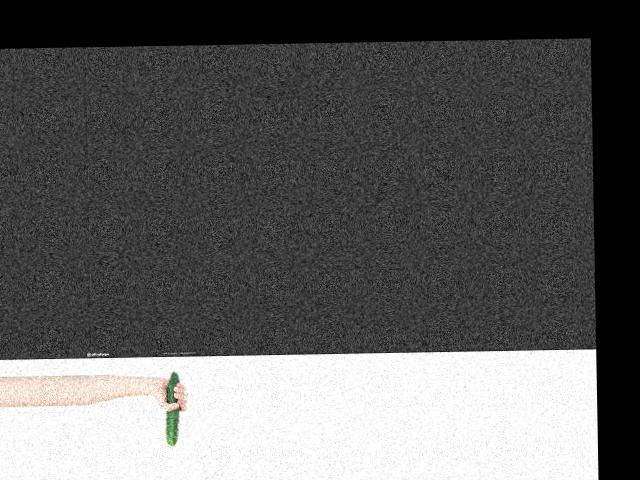cucumber: (165, 370, 181, 445)
